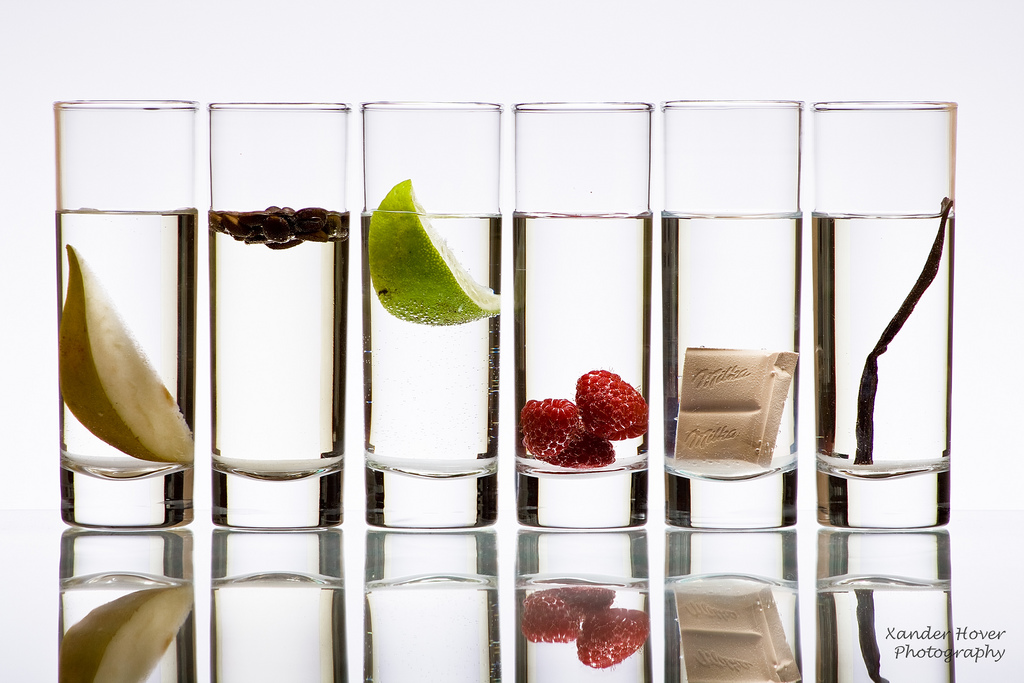glass of water: (50, 102, 981, 497)
